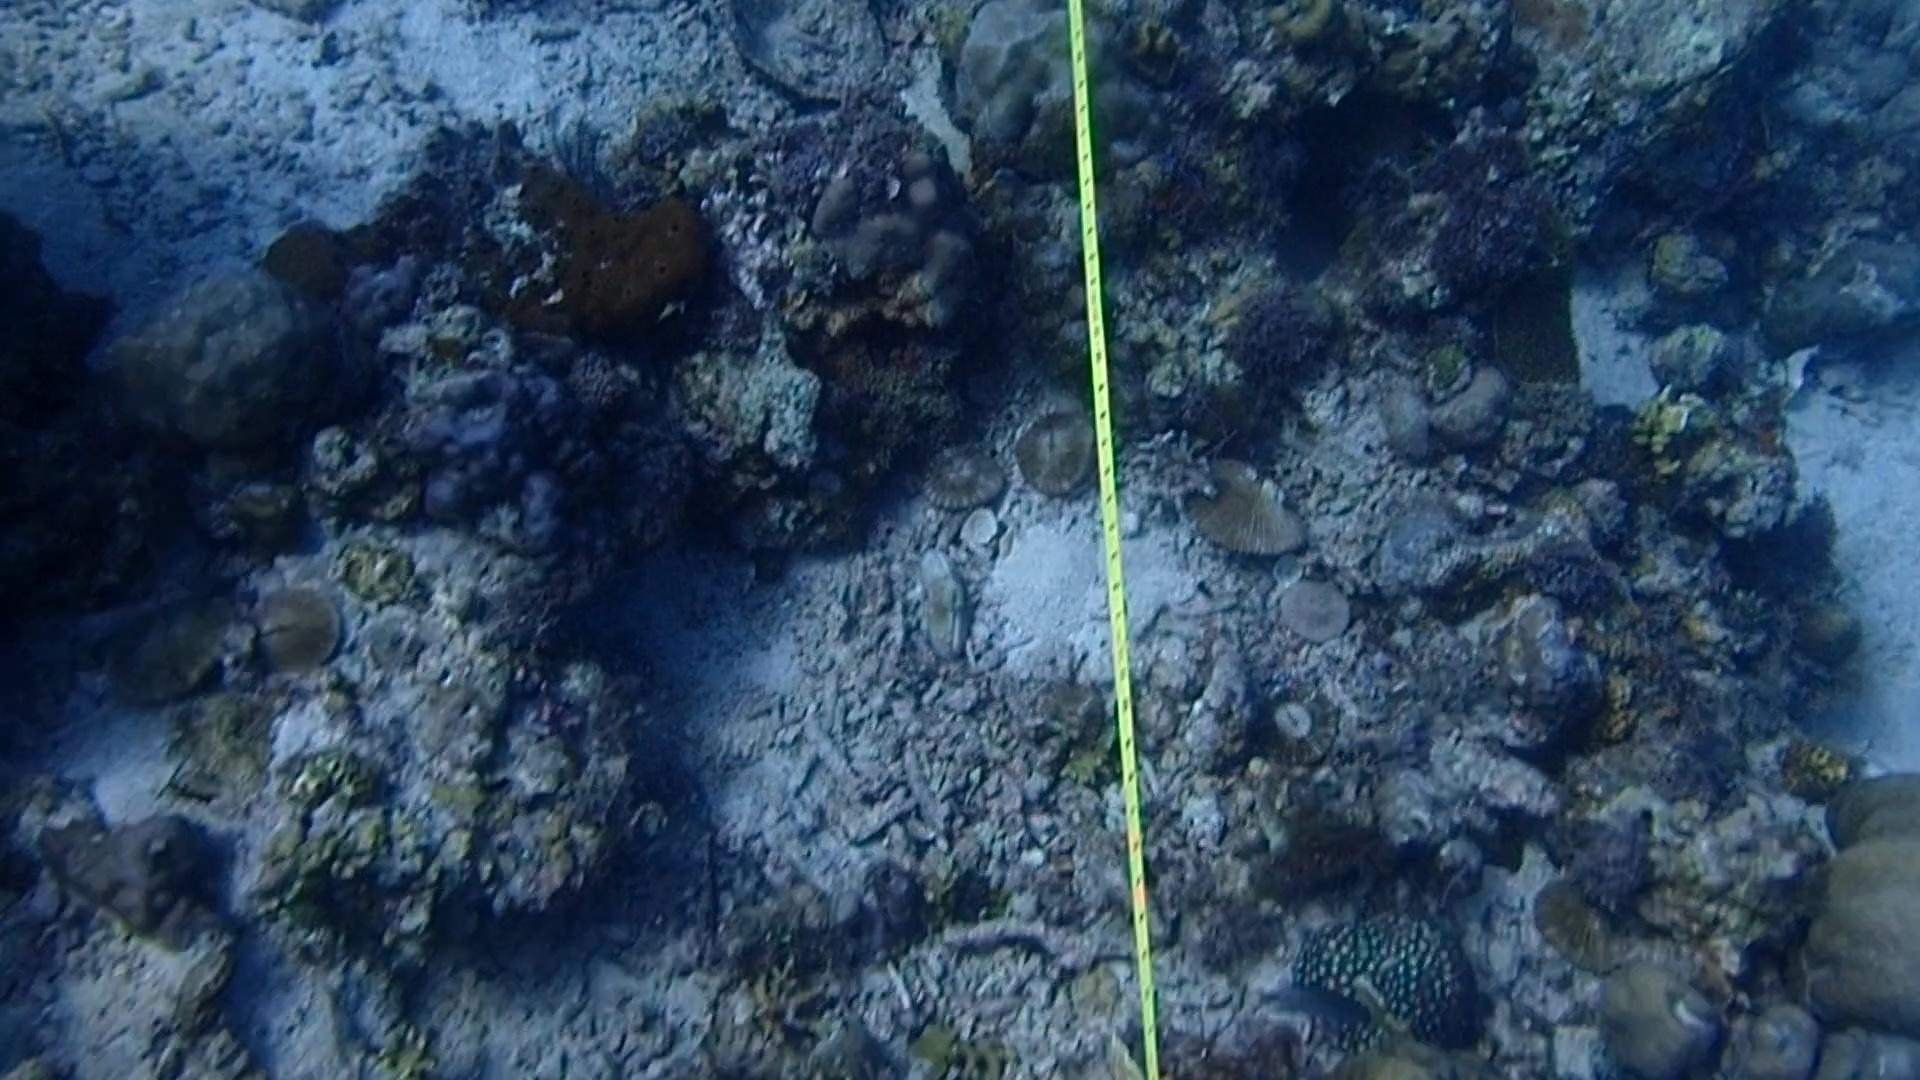Light Fish: (1258, 971, 1373, 1040)
